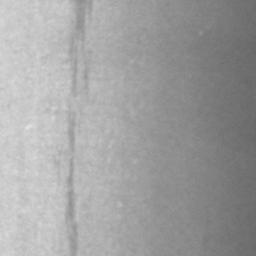Inclusion: (64, 160, 77, 255), (76, 0, 90, 37), (67, 119, 76, 150)
